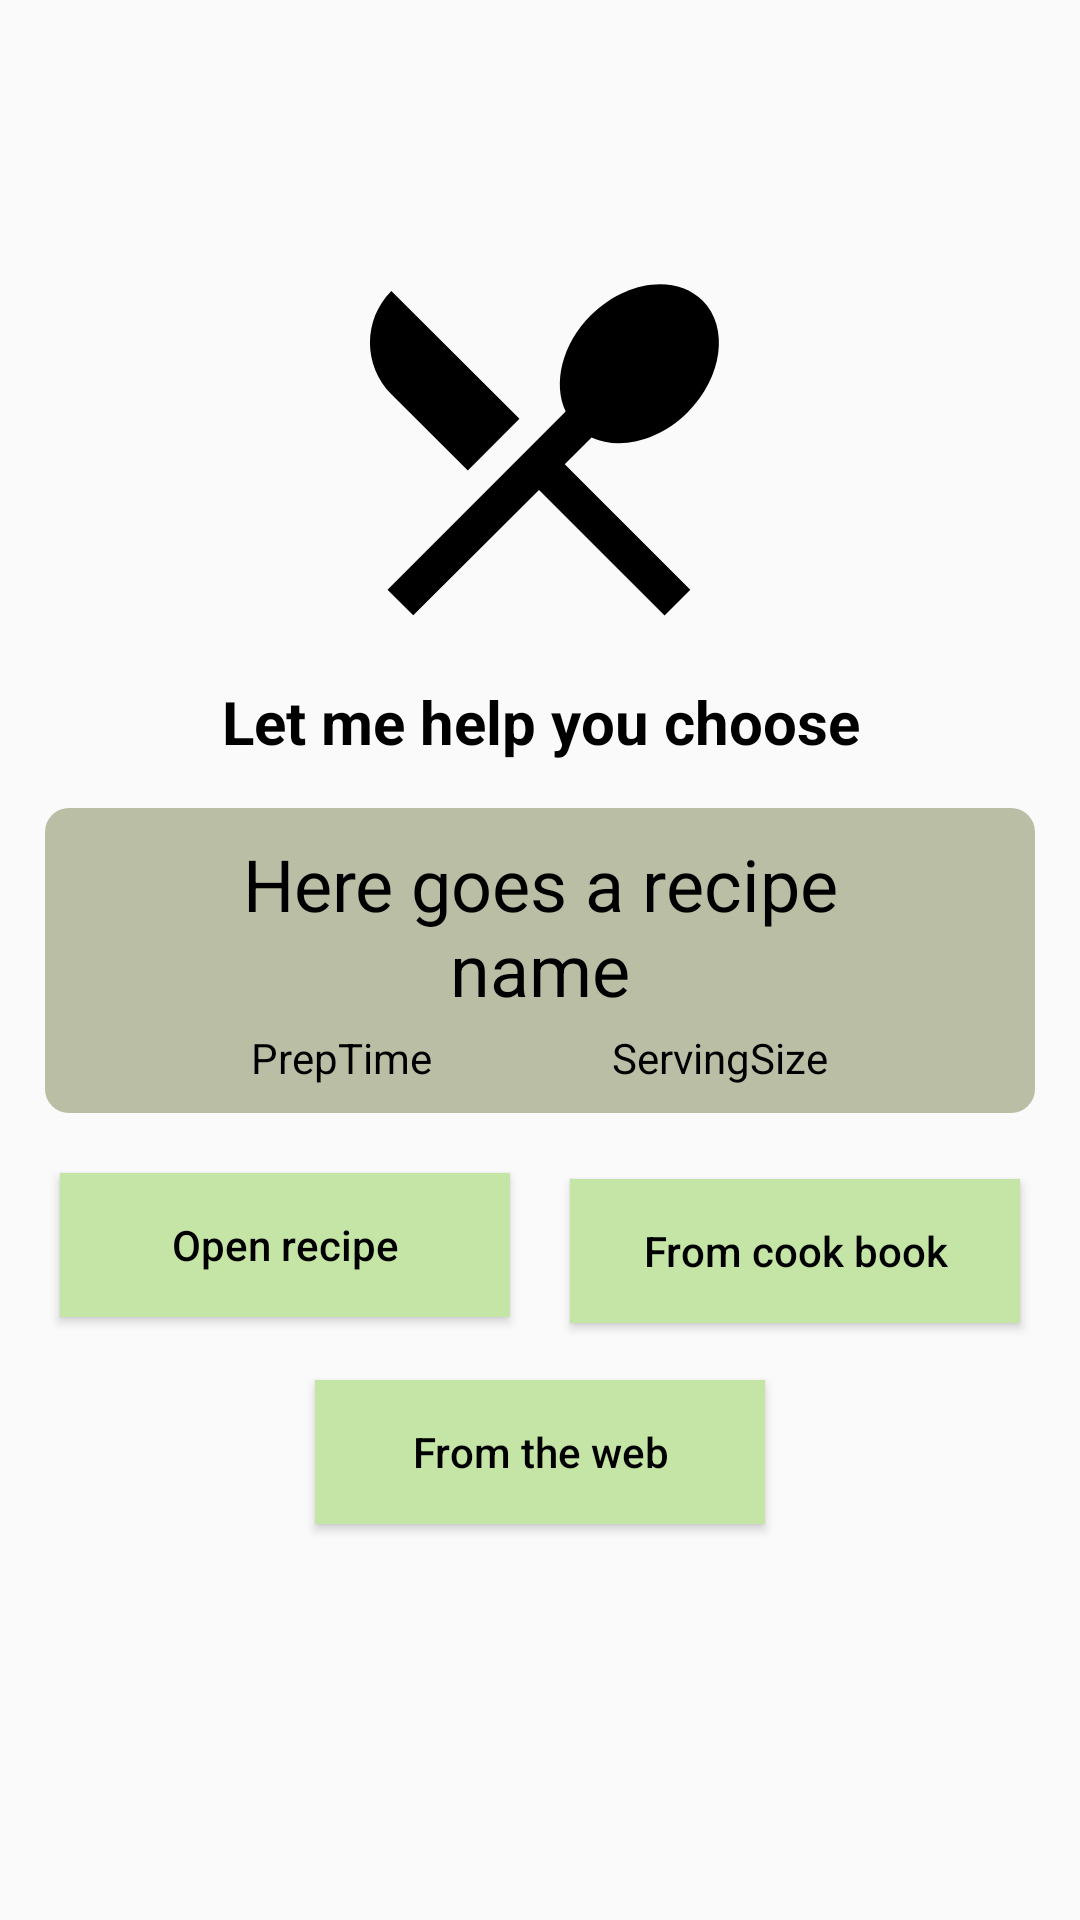

Point at icon controls on the screen. Image size 1080 × 1920, points as [x,y].
recipes: [544,450]
